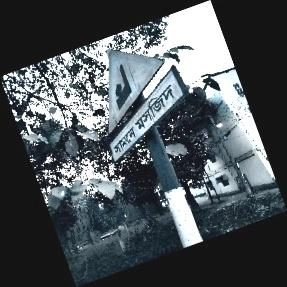Mosque in front: (106, 46, 190, 163)
